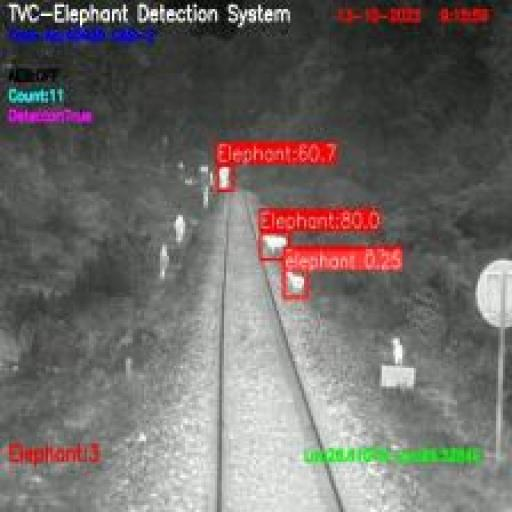Elephant: (286, 270, 306, 298)
